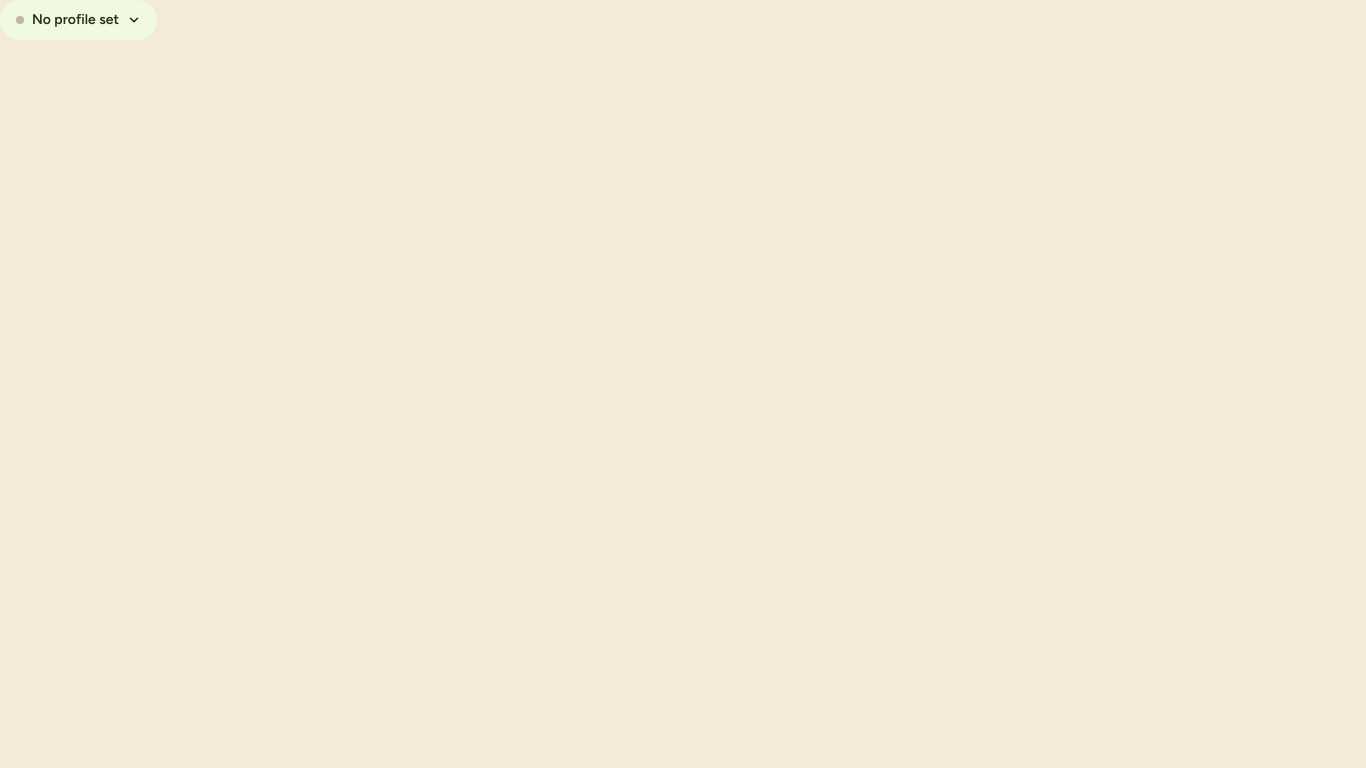
Scenario: Navigation and Profile Controls › ProfilePill › toggles profile popover and updates condition
Later steps or results of the test are not shown.
# Open popover
Click the button "No profile set". click: (78, 20)
box: [0,0,157,40]
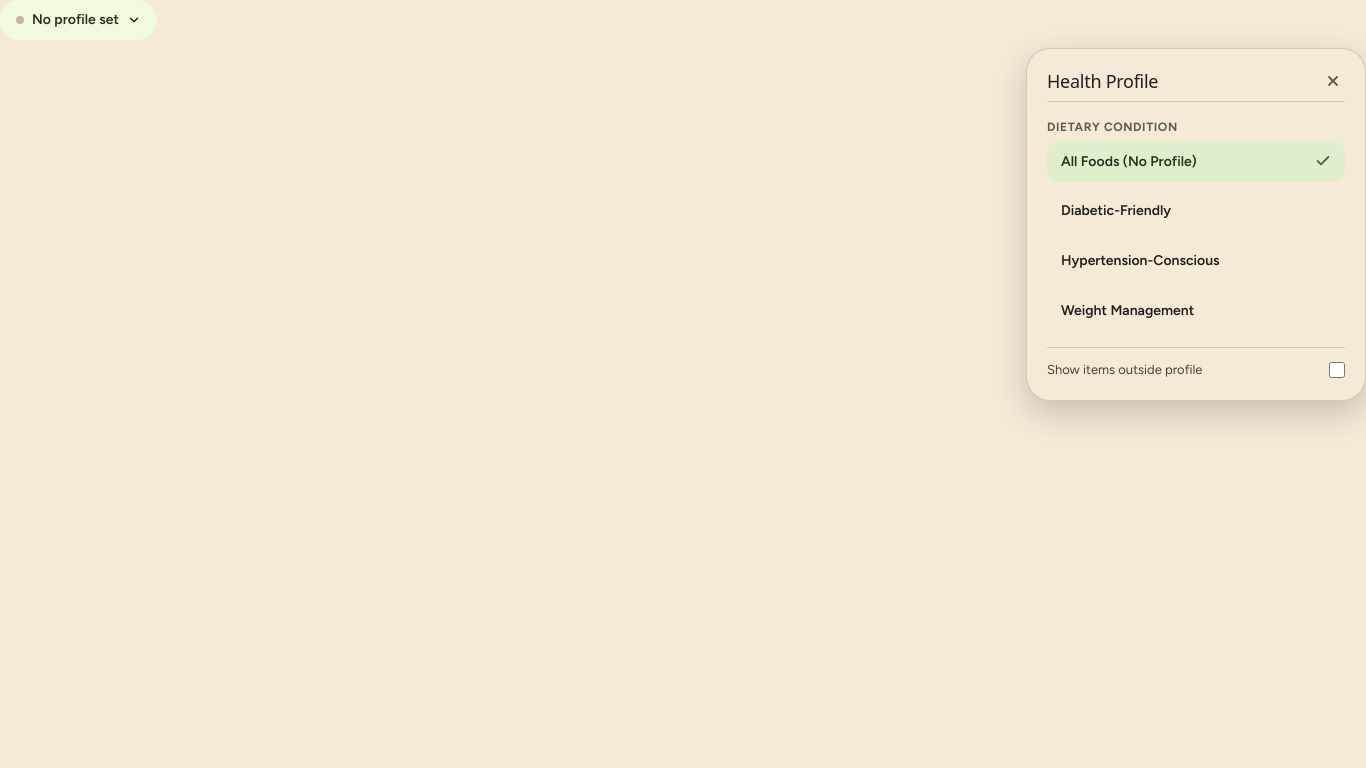
Check: the dialog named "profile settings" is shown, box [1026,48,1365,402]
